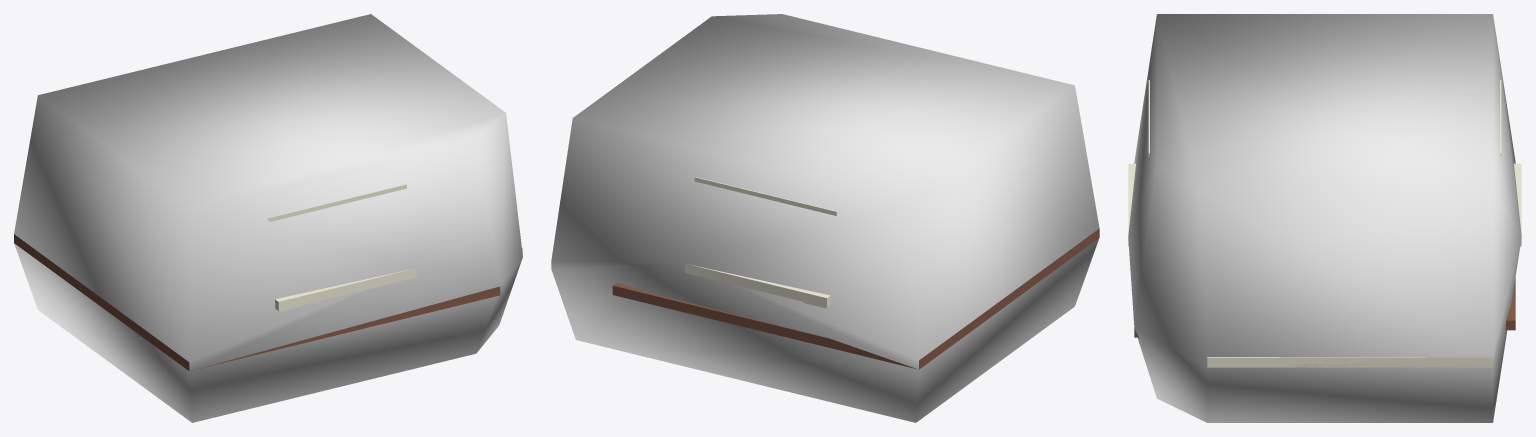
The picture shows the model from 3 angles, left to right: view 1: azimuth 30°, elevation 25°; view 2: azimuth 150°, elevation 25°; view 3: azimuth 270°, elevation 25°; orthographic projection. The views are drawn at different scales.
Parts seen in each view (by area): view 1: struct_city_block_tall_base_01_col, struct_city_block_tall_base_01; view 2: struct_city_block_tall_base_01_col, struct_city_block_tall_base_01; view 3: struct_city_block_tall_base_01_col, struct_city_block_tall_base_01.
Part boxes in pixels (x1,y1,x2,y2): struct_city_block_tall_base_01_col: (14, 14, 522, 422); struct_city_block_tall_base_01: (14, 184, 522, 370); struct_city_block_tall_base_01_col: (551, 14, 1099, 422); struct_city_block_tall_base_01: (612, 177, 1099, 369); struct_city_block_tall_base_01_col: (1128, 14, 1521, 422); struct_city_block_tall_base_01: (1128, 80, 1521, 367).
Size of the model in its own units: 9.95 by 5.55 by 8.48.
Materials: 2 (2 with a texture image).
